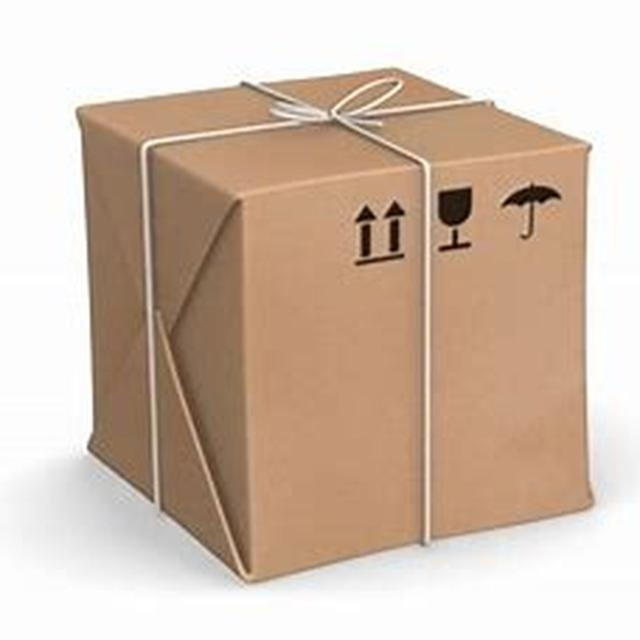box: (62, 57, 616, 581)
